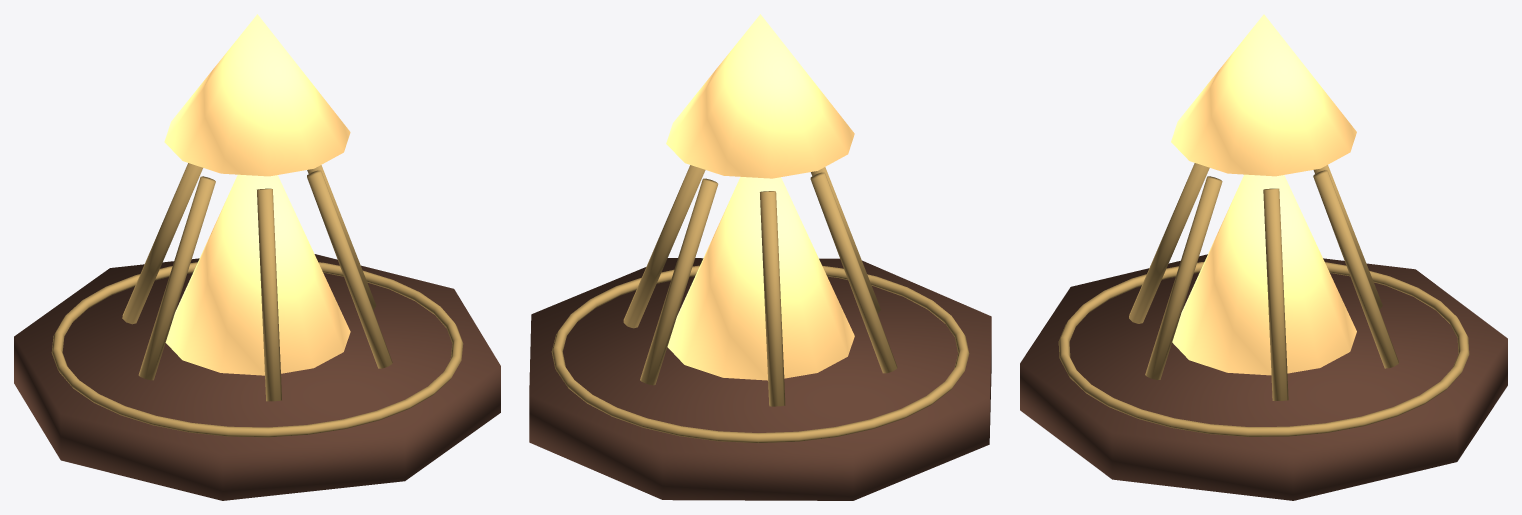
The picture shows the model from 3 angles, left to right: view 1: azimuth 30°, elevation 25°; view 2: azimuth 150°, elevation 25°; view 3: azimuth 270°, elevation 25°; orthographic projection.
Parts seen in each view (by area): view 1: Hexagonal plinth, Lower crystal, Upper crystal, Inlaid rim, Brass setting.004, Brass setting.003, Brass setting.005, Brass setting.002, Brass setting; view 2: Hexagonal plinth, Lower crystal, Upper crystal, Inlaid rim, Brass setting.002, Brass setting.001, Brass setting.003, Brass setting, Brass setting.004; view 3: Hexagonal plinth, Lower crystal, Upper crystal, Inlaid rim, Brass setting, Brass setting.005, Brass setting.001, Brass setting.004, Brass setting.002.
Part boxes in pixels (x1,y1,x2,y2): Hexagonal plinth: [14, 254, 500, 500]; Lower crystal: [165, 174, 350, 375]; Upper crystal: [164, 14, 350, 176]; Inlaid rim: [51, 262, 463, 437]; Brass setting.004: [257, 188, 281, 401]; Brass setting.003: [138, 176, 215, 380]; Brass setting.005: [307, 170, 392, 368]; Brass setting.002: [122, 163, 202, 324]; Brass setting: [307, 165, 376, 309]; Hexagonal plinth: [529, 258, 991, 500]; Lower crystal: [667, 177, 854, 380]; Upper crystal: [666, 14, 854, 178]; Inlaid rim: [551, 265, 969, 443]; Brass setting.002: [760, 191, 785, 406]; Brass setting.001: [640, 178, 718, 385]; Brass setting.003: [810, 172, 897, 373]; Brass setting: [623, 165, 705, 328]; Brass setting.004: [811, 167, 880, 313]; Hexagonal plinth: [1020, 254, 1507, 500]; Lower crystal: [1172, 174, 1356, 375]; Upper crystal: [1171, 14, 1356, 176]; Inlaid rim: [1058, 261, 1469, 436]; Brass setting: [1263, 188, 1288, 401]; Brass setting.005: [1145, 176, 1222, 380]; Brass setting.001: [1313, 170, 1398, 368]; Brass setting.004: [1129, 163, 1209, 323]; Brass setting.002: [1313, 165, 1382, 309].
Size of the model in its own units: 1.51 by 1.31 by 1.51.
